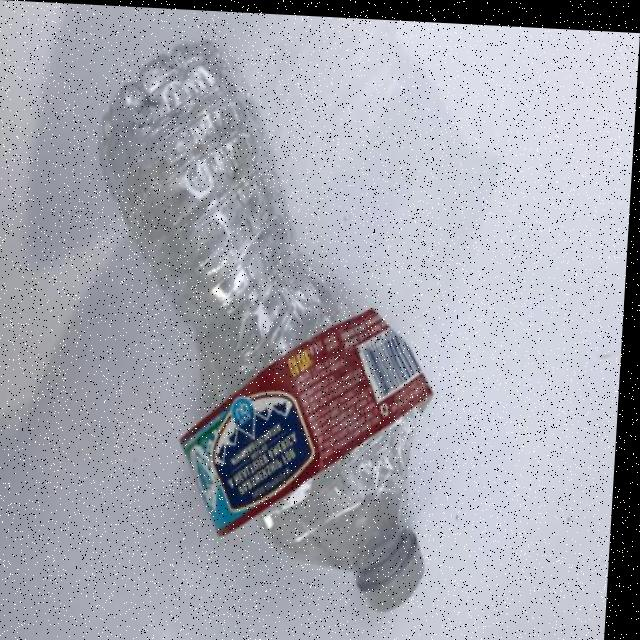litter: (359, 519, 446, 624)
